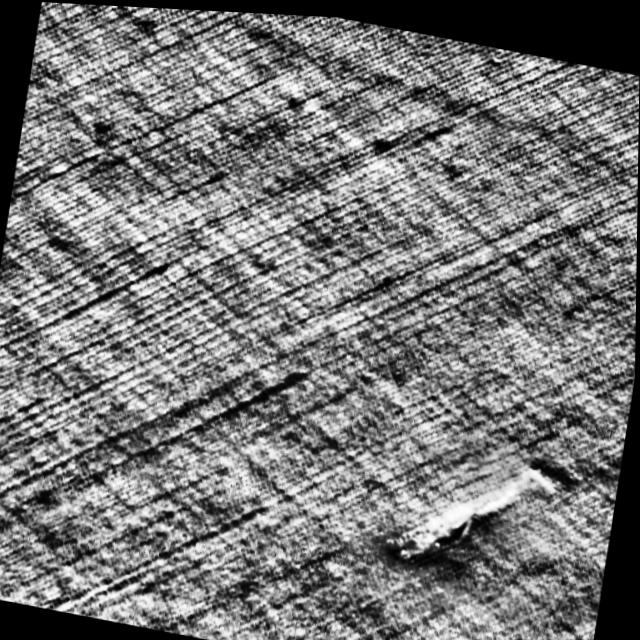Hole: (378, 430, 575, 590)
